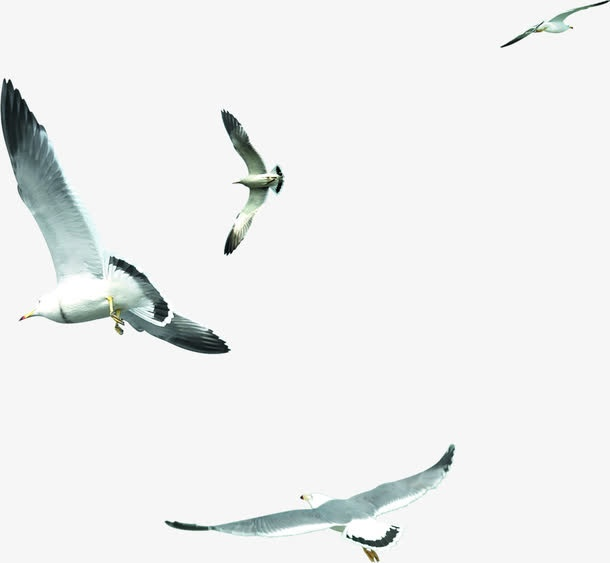bird: (1, 73, 233, 356), (160, 442, 457, 563), (220, 109, 283, 257), (499, 2, 610, 52)
